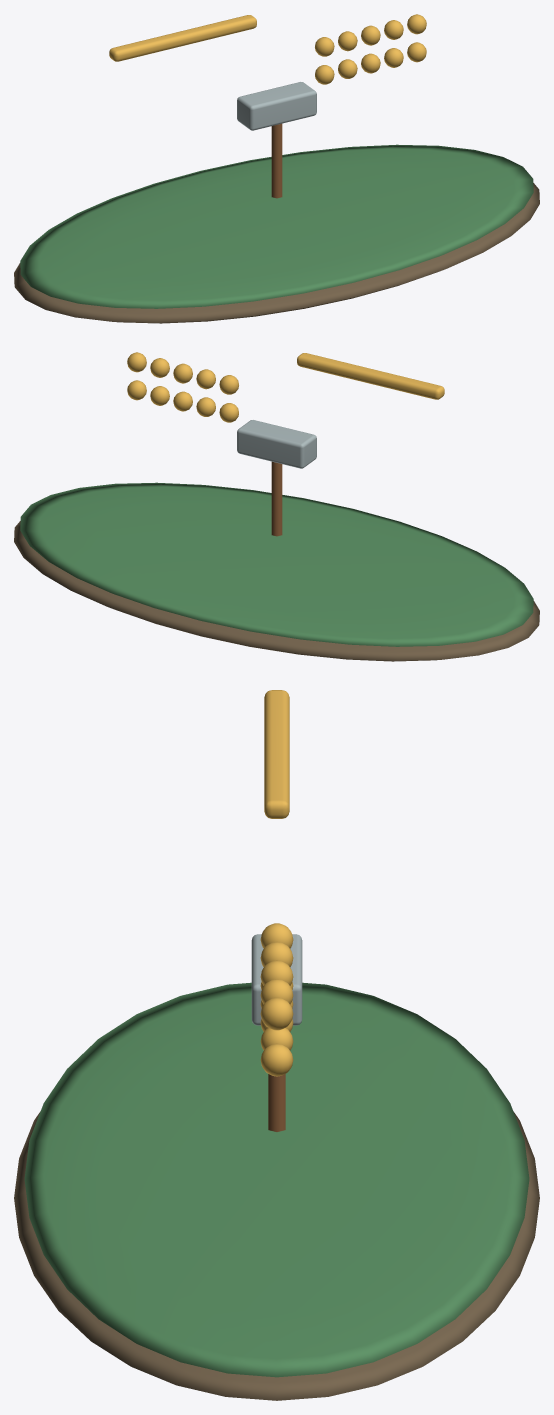
Rendered from complete-second-one-ten-work.glb.
The picture shows the model from 3 angles, top to bottom: view 1: azimuth 30°, elevation 25°; view 2: azimuth 150°, elevation 25°; view 3: azimuth 270°, elevation 25°; orthographic projection. The views are drawn at different scales.
Visible parts, largest first — view 1: complete-second-one-ten-work_surface_01, complete-second-one-ten-work_surface_00, complete-second-one-ten-work_surface_02, complete-second-one-ten-work_surface_04, complete-second-one-ten-work_surface_03; view 2: complete-second-one-ten-work_surface_01, complete-second-one-ten-work_surface_00, complete-second-one-ten-work_surface_02, complete-second-one-ten-work_surface_04, complete-second-one-ten-work_surface_03; view 3: complete-second-one-ten-work_surface_01, complete-second-one-ten-work_surface_00, complete-second-one-ten-work_surface_02, complete-second-one-ten-work_surface_04, complete-second-one-ten-work_surface_03.
Boxes of the visible parts, x1,y1,x2,y2 form: complete-second-one-ten-work_surface_01: (20,144,533,308); complete-second-one-ten-work_surface_00: (14,183,539,323); complete-second-one-ten-work_surface_02: (109,14,426,84); complete-second-one-ten-work_surface_04: (237,82,316,130); complete-second-one-ten-work_surface_03: (271,123,282,198); complete-second-one-ten-work_surface_01: (20,482,533,646); complete-second-one-ten-work_surface_00: (14,521,539,661); complete-second-one-ten-work_surface_02: (127,352,444,422); complete-second-one-ten-work_surface_04: (237,420,316,468); complete-second-one-ten-work_surface_03: (271,461,282,536); complete-second-one-ten-work_surface_01: (24,982,529,1377); complete-second-one-ten-work_surface_00: (14,1111,539,1400); complete-second-one-ten-work_surface_02: (260,690,293,1076); complete-second-one-ten-work_surface_04: (251,934,302,1025); complete-second-one-ten-work_surface_03: (268,1074,285,1131).
Size of the model in its own units: 4.56 by 2.11 by 2.5.
